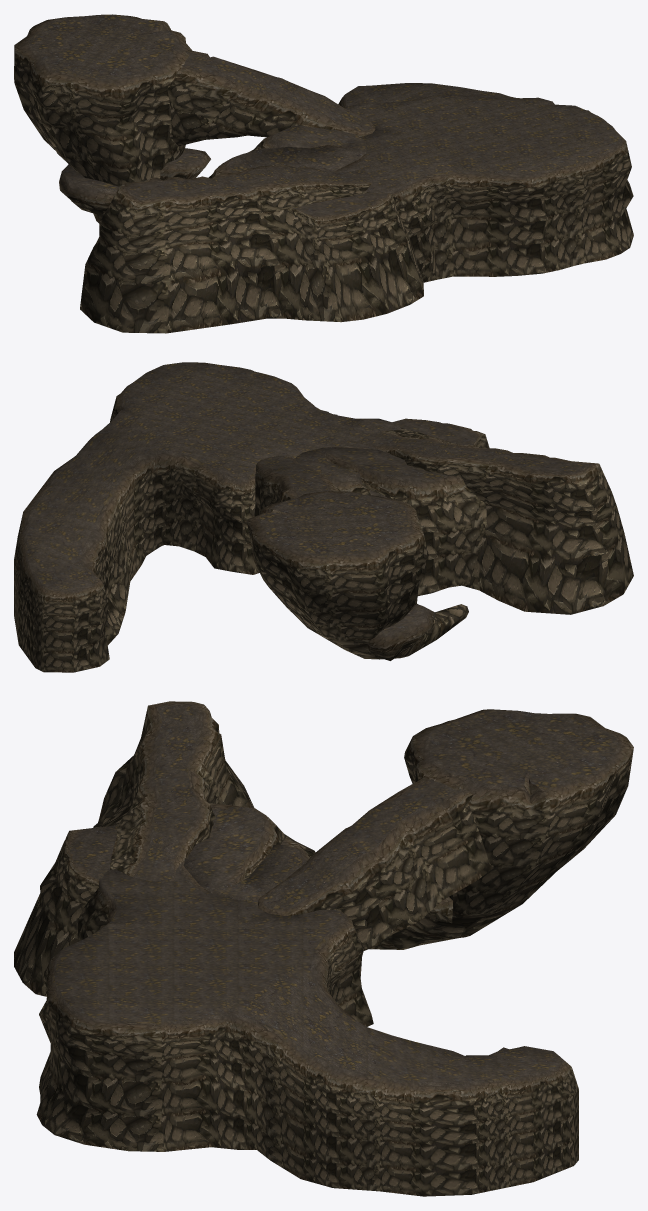
Rendered from Z_dimian.fbx.
3 renders of one model, top to bottom at view 1: azimuth 30°, elevation 25°; view 2: azimuth 150°, elevation 25°; view 3: azimuth 270°, elevation 25°, orthographic. The views are drawn at different scales.
Visible parts, largest first — view 1: Z_dimian; view 2: Z_dimian; view 3: Z_dimian.
Part boxes in pixels (x1,y1,x2,y2): Z_dimian: (14,14,633,333); Z_dimian: (14,362,633,672); Z_dimian: (14,701,633,1196).
Bounding box in the file's own units: 6293 × 2328 × 5256.
